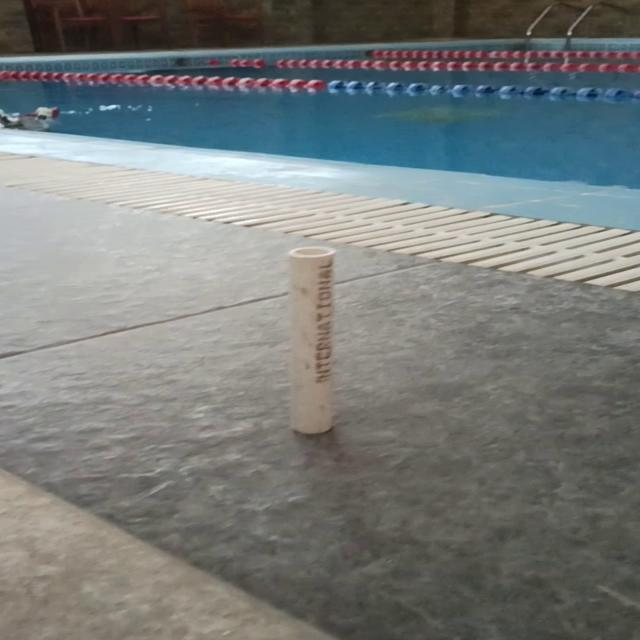Cube: (283, 245, 337, 435)
